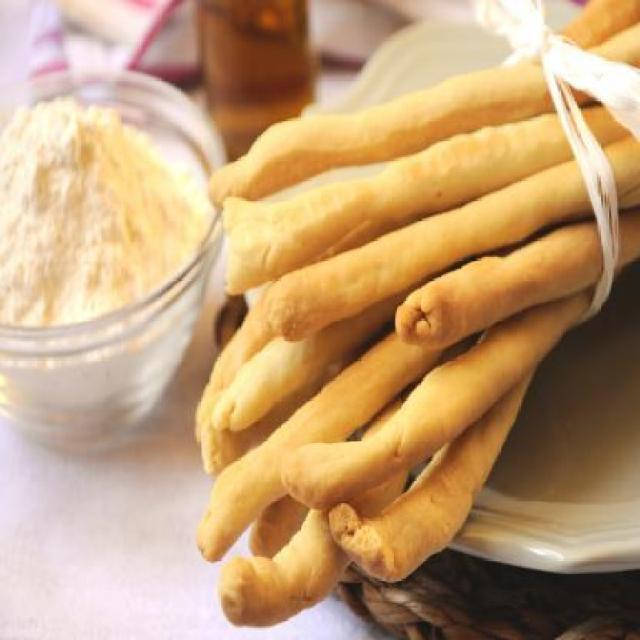Grissini: (197, 75, 594, 618)
